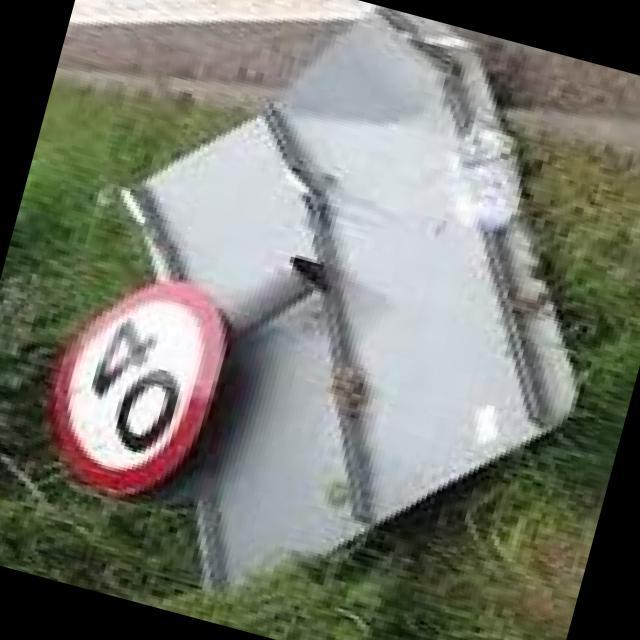obstructed_road_sign: (48, 281, 231, 494)
